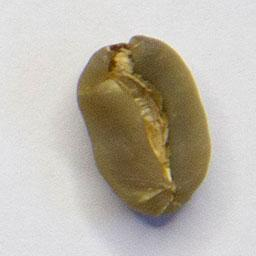premium: (74, 31, 213, 221)
